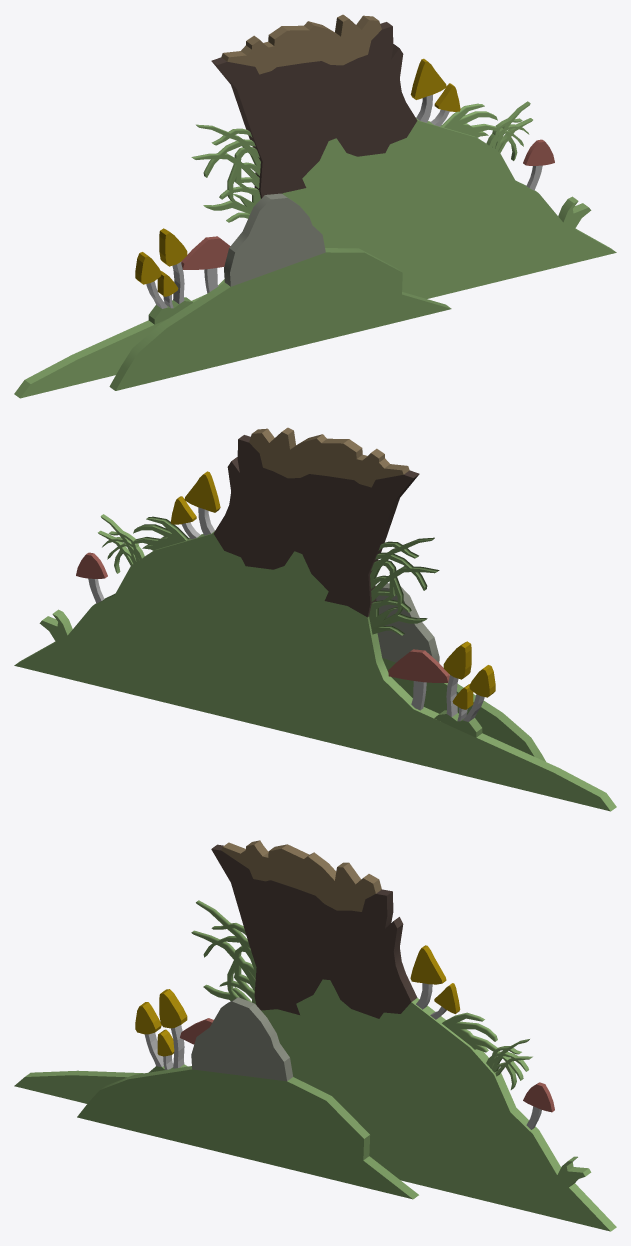
The model's file is Bush_1.fbx.
The picture shows the model from 3 angles, top to bottom: view 1: azimuth 30°, elevation 25°; view 2: azimuth 150°, elevation 25°; view 3: azimuth 330°, elevation 25°; orthographic projection.
Parts seen in each view (by area): view 1: pCube3, pCube33, pCube34.001, pCube28, pCube6, pCube58, Piano.002, Piano, pCube4, pCube59; view 2: pCube3, pCube33, pCube34.001, pCube28, pCube6, pCube58, Piano, Piano.002, pCube4, pCube59; view 3: pCube3, pCube33, pCube28, pCube34.001, pCube58, Piano, Piano.002, pCube4, pCube59.
Part boxes in pixels (x1,y1,x2,y2): pCube3: (14, 14, 616, 398); pCube33: (109, 193, 451, 390); pCube34.001: (191, 124, 260, 222); pCube28: (135, 228, 192, 324); pCube6: (181, 236, 230, 293); pCube58: (410, 58, 446, 122); Piano.002: (486, 101, 532, 160); Piano: (442, 103, 499, 137); pCube4: (523, 139, 554, 190); pCube59: (430, 83, 460, 126); pCube3: (14, 427, 616, 811); pCube33: (376, 583, 545, 761); pCube34.001: (369, 537, 439, 635); pCube28: (434, 641, 495, 737); pCube6: (388, 649, 449, 710); pCube58: (184, 471, 220, 535); Piano: (131, 516, 188, 550); Piano.002: (98, 514, 144, 573); pCube4: (76, 552, 107, 603); pCube59: (171, 496, 200, 539); pCube3: (14, 840, 616, 1231); pCube33: (77, 997, 418, 1199); pCube28: (135, 989, 187, 1072); pCube34.001: (191, 900, 256, 1004); pCube58: (410, 945, 446, 1009); Piano: (442, 1012, 499, 1053); Piano.002: (486, 1039, 532, 1089); pCube4: (523, 1082, 554, 1129); pCube59: (430, 983, 460, 1019).
Bounding box in the file's own units: 2.68 × 1.3 × 0.1742.
